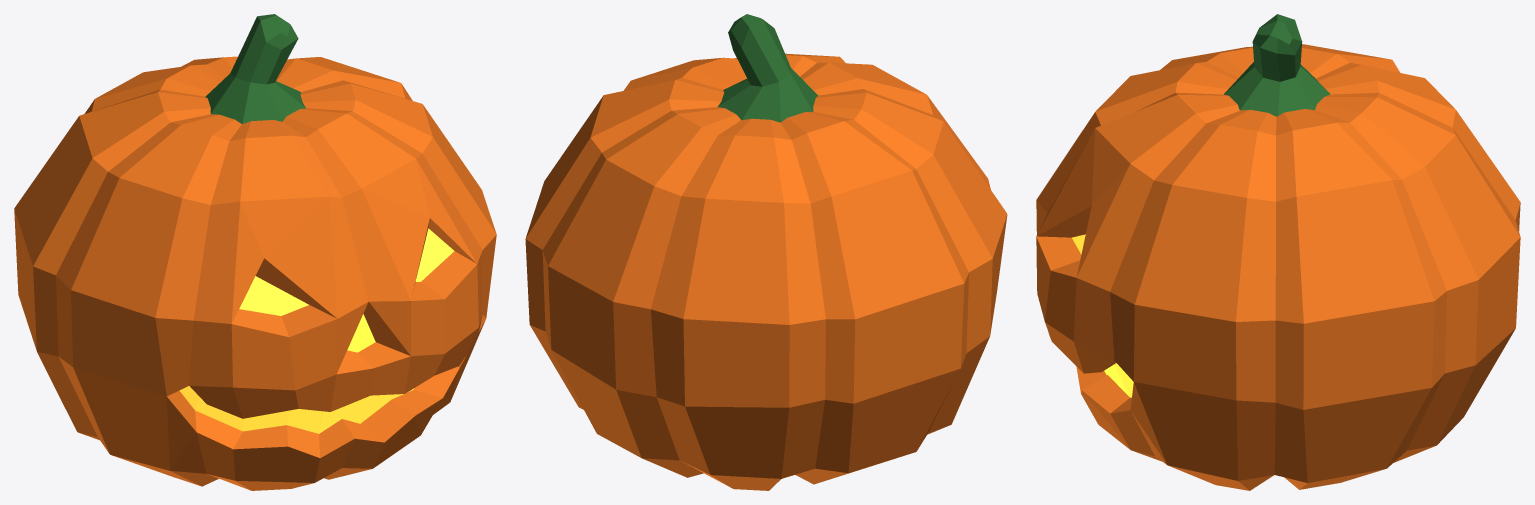
File: pumkin-helloween.glb
3 views of the same model, side by side, from view 1: azimuth 30°, elevation 25°; view 2: azimuth 150°, elevation 25°; view 3: azimuth 270°, elevation 25° (orthographic). The views are drawn at different scales.
Visible parts, largest first — view 1: pumkin-helloween; view 2: pumkin-helloween; view 3: pumkin-helloween.
Part boxes in pixels (<box>): pumkin-helloween: <box>14,14,496,490</box>; pumkin-helloween: <box>525,14,1007,490</box>; pumkin-helloween: <box>1036,14,1520,490</box>.
Bounding box in the file's own units: 0.6455 × 0.6229 × 0.6304.
Materials: 1 (1 with a texture image).
